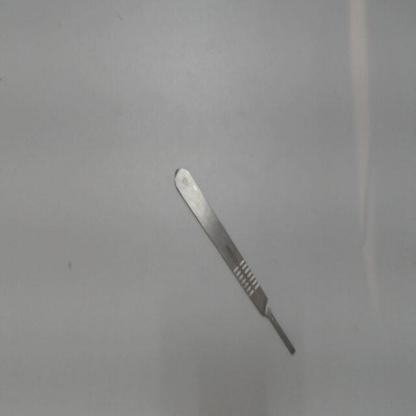No.4 BP Handle: (160, 147, 308, 370)
